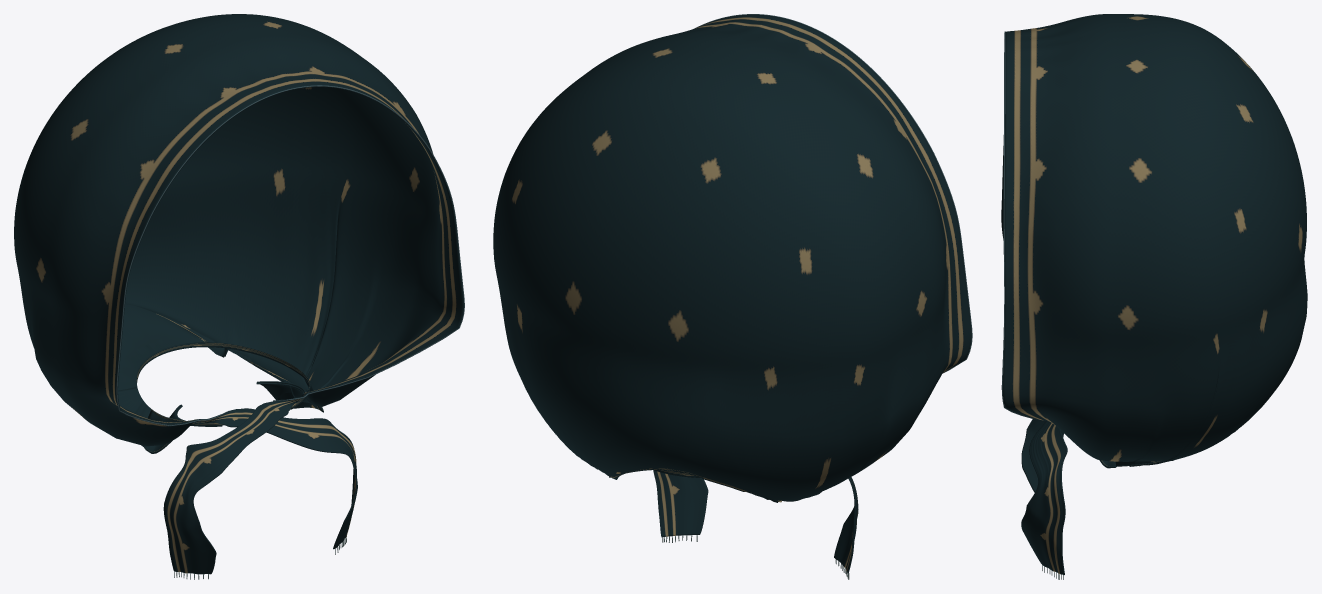
File: Feminine-ponytail-triangle-pashmina251-headgear.glb
The picture shows the model from 3 angles, left to right: view 1: azimuth 30°, elevation 25°; view 2: azimuth 150°, elevation 25°; view 3: azimuth 270°, elevation 25°; orthographic projection. The views are drawn at different scales.
Visible parts, largest first — view 1: 226 headgear / Headwear / continuous woven pashmina239, 226 headgear / Headwear / face edge239; view 2: 226 headgear / Headwear / continuous woven pashmina239, 226 headgear / Headwear / face edge239; view 3: 226 headgear / Headwear / continuous woven pashmina239, 226 headgear / Headwear / face edge239.
Part boxes in pixels (x1=…): 226 headgear / Headwear / continuous woven pashmina239: x1=14, y1=14, x2=463, y2=574; 226 headgear / Headwear / face edge239: x1=116, y1=85, x2=464, y2=426; 226 headgear / Headwear / continuous woven pashmina239: x1=493, y1=14, x2=971, y2=573; 226 headgear / Headwear / face edge239: x1=694, y1=14, x2=972, y2=373; 226 headgear / Headwear / continuous woven pashmina239: x1=1001, y1=14, x2=1307, y2=574; 226 headgear / Headwear / face edge239: x1=1001, y1=31, x2=1043, y2=420.
Size of the model in its own units: 1.07 by 1.38 by 0.7569.
Materials: 3 (1 with a texture image).
